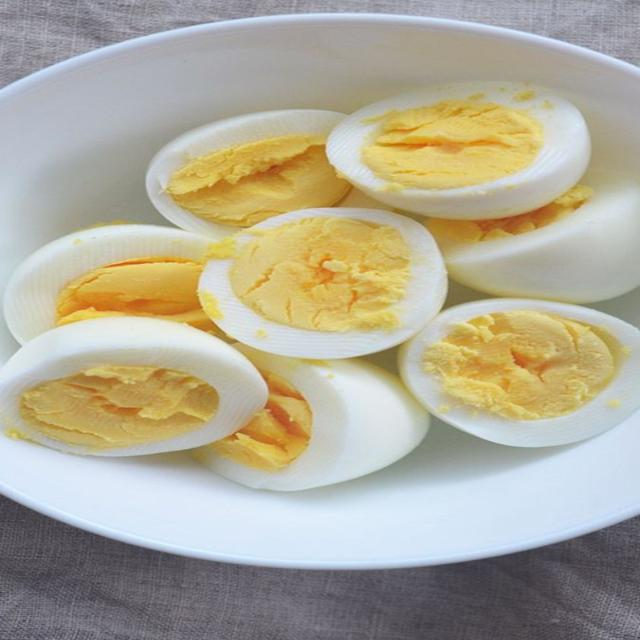egg boiled: (200, 208, 446, 358), (0, 318, 267, 455), (328, 82, 590, 219), (399, 299, 639, 446), (195, 346, 429, 490), (428, 171, 639, 302), (147, 110, 349, 238), (4, 224, 214, 343)
